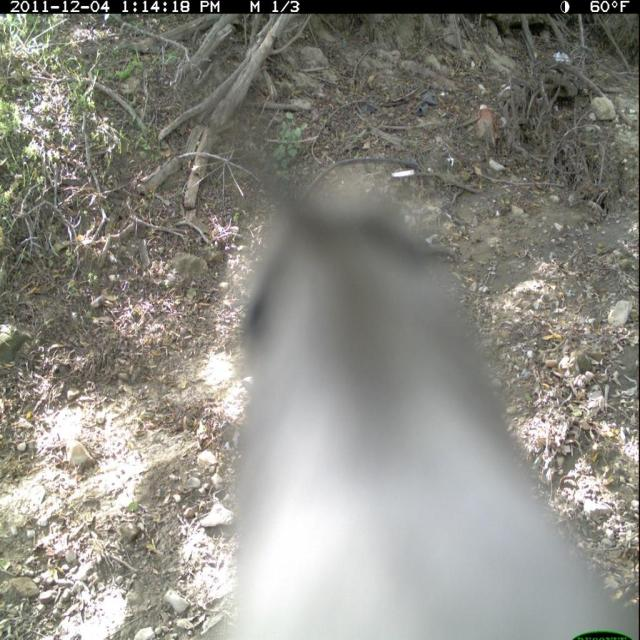bird: (214, 113, 638, 640)
